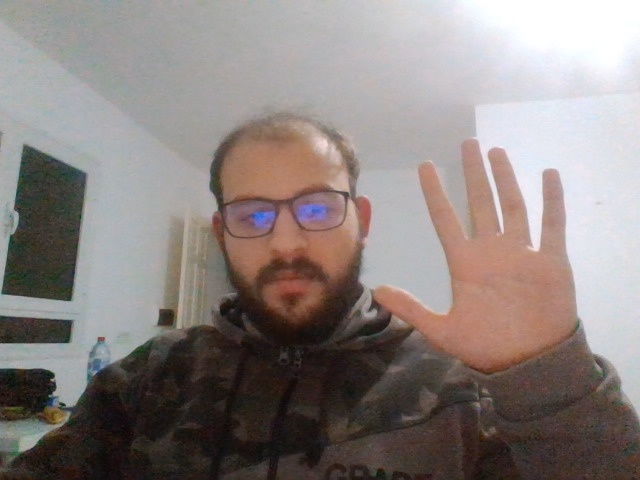Hello: (384, 142, 570, 357)
